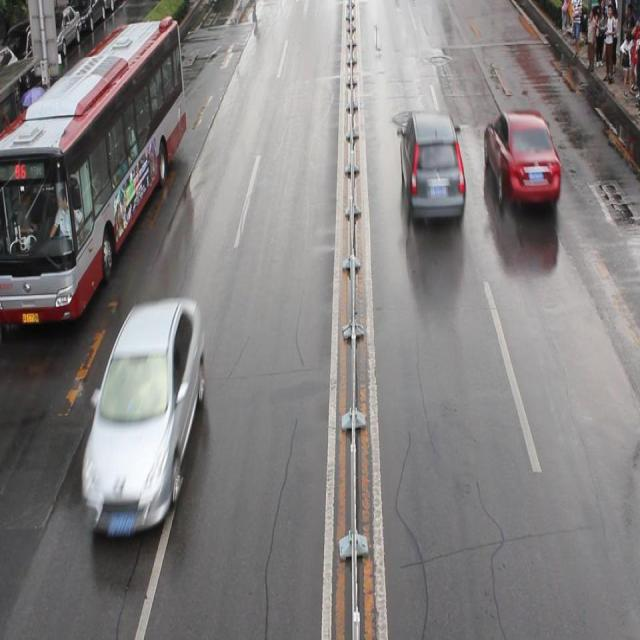car: (83, 298, 204, 532), (482, 109, 561, 202), (398, 113, 466, 220)
van: (1, 17, 186, 321)
